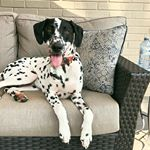puppy: (3, 14, 97, 150)
